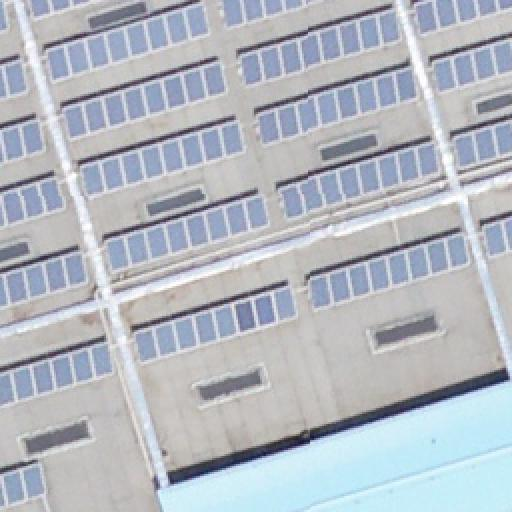solar-panel: (133, 280, 299, 368), (62, 57, 230, 143), (42, 0, 214, 84), (255, 62, 417, 150), (80, 118, 248, 202), (277, 138, 443, 222), (311, 228, 473, 312), (105, 194, 271, 274), (238, 6, 402, 86), (0, 341, 116, 411), (0, 248, 90, 308), (428, 35, 512, 93), (0, 169, 64, 231), (416, 0, 512, 36), (222, 0, 322, 32), (452, 120, 512, 168), (0, 459, 48, 509), (0, 119, 48, 169), (27, 0, 117, 26), (0, 58, 32, 102), (481, 216, 511, 260), (0, 0, 12, 36)
